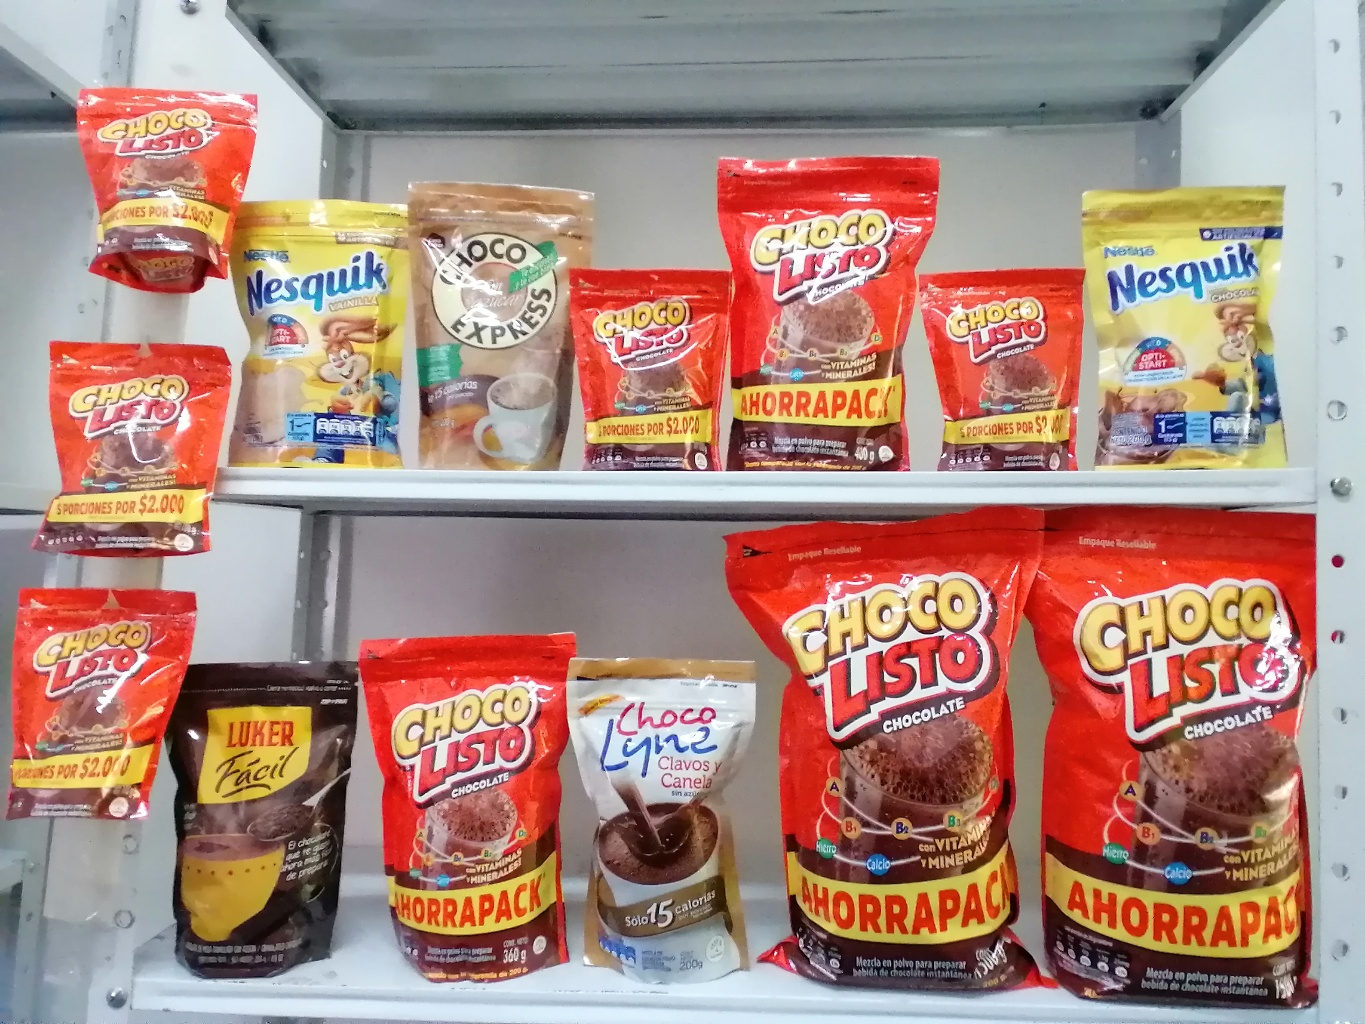COL0170103DYP1,500: (1014, 507, 1330, 1011)
COL0170103DYP10000: (74, 80, 261, 296)
COL0170103DYP36000: (360, 632, 578, 981)
COL0170103DYP40000: (719, 153, 927, 470)
COL0170303DYP20000: (1082, 185, 1292, 472)
COL0170306DYP20000: (224, 191, 409, 468)
